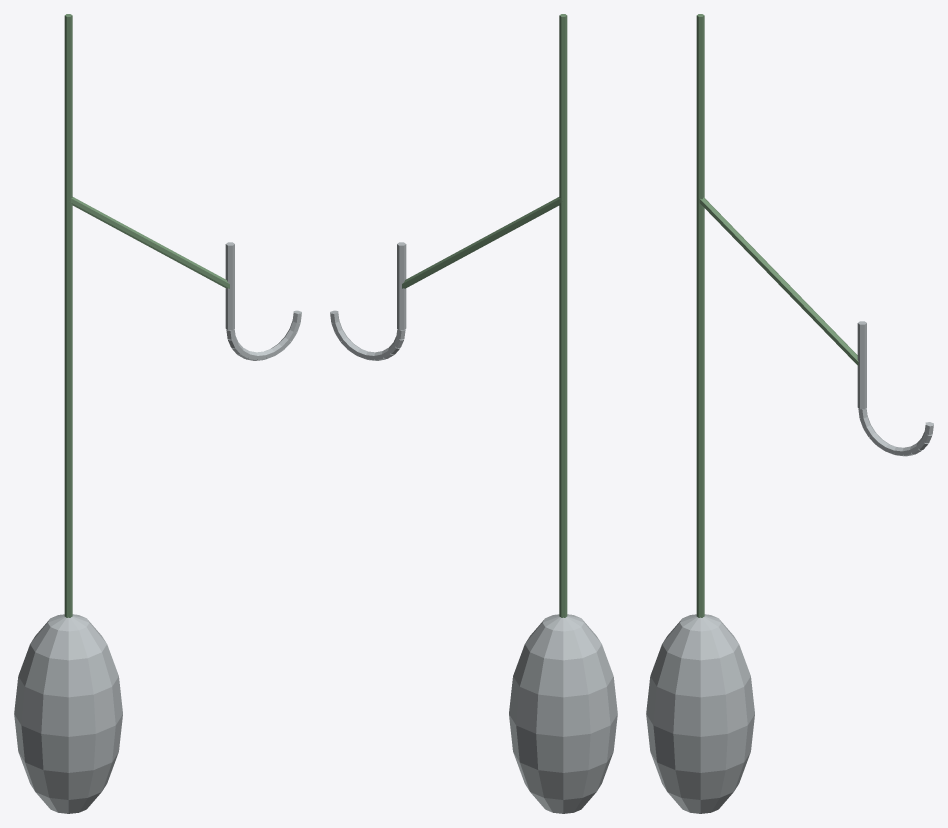
The model's file is hook_sinker_rig.glb.
3 renders of one model, left to right at view 1: azimuth 30°, elevation 25°; view 2: azimuth 150°, elevation 25°; view 3: azimuth 330°, elevation 25°, orthographic.
Parts seen in each view (by area): view 1: Terminal sinker, Terminal leader, Hook snood, Hook shank; view 2: Terminal sinker, Terminal leader, Hook snood, Hook shank; view 3: Terminal sinker, Terminal leader, Hook snood, Hook shank.
Part boxes in pixels (left/top/right/bottom): Terminal sinker: left=14, top=614, right=122, bottom=813; Terminal leader: left=64, top=14, right=72, bottom=617; Hook snood: left=69, top=197, right=229, bottom=288; Hook shank: left=225, top=242, right=234, bottom=330; Terminal sinker: left=509, top=614, right=617, bottom=813; Terminal leader: left=559, top=14, right=567, bottom=617; Hook snood: left=402, top=197, right=562, bottom=288; Hook shank: left=397, top=242, right=406, bottom=330; Terminal sinker: left=646, top=614, right=754, bottom=813; Terminal leader: left=696, top=14, right=704, bottom=617; Hook snood: left=699, top=197, right=858, bottom=365; Hook shank: left=857, top=321, right=866, bottom=409.
Size of the model in its own units: 0.208 by 0.565 by 0.07.
